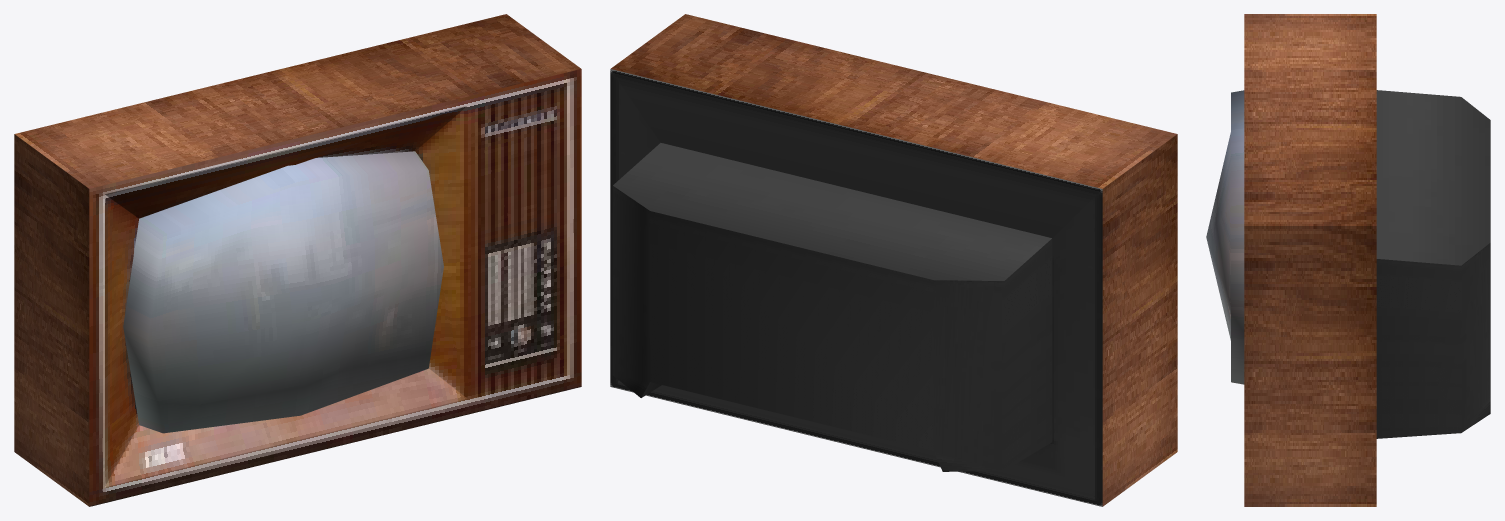
Rendered from ps1_style_tv.glb.
3 renders of one model, left to right at view 1: azimuth 30°, elevation 25°; view 2: azimuth 150°, elevation 25°; view 3: azimuth 270°, elevation 25°, orthographic. The views are drawn at different scales.
Visible parts, largest first — view 1: Cube; view 2: Cube; view 3: Cube.
Boxes of the visible parts, x1=… form: Cube: x1=14, y1=14, x2=581, y2=506; Cube: x1=610, y1=14, x2=1177, y2=506; Cube: x1=1206, y1=14, x2=1490, y2=506.
Bounding box in the file's own units: 2.91 × 1.8 × 1.65.
Materials: 1 (1 with a texture image).
